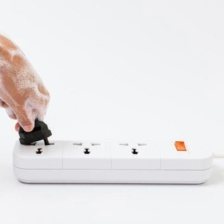three_eye_plug: (7, 132, 218, 187)
